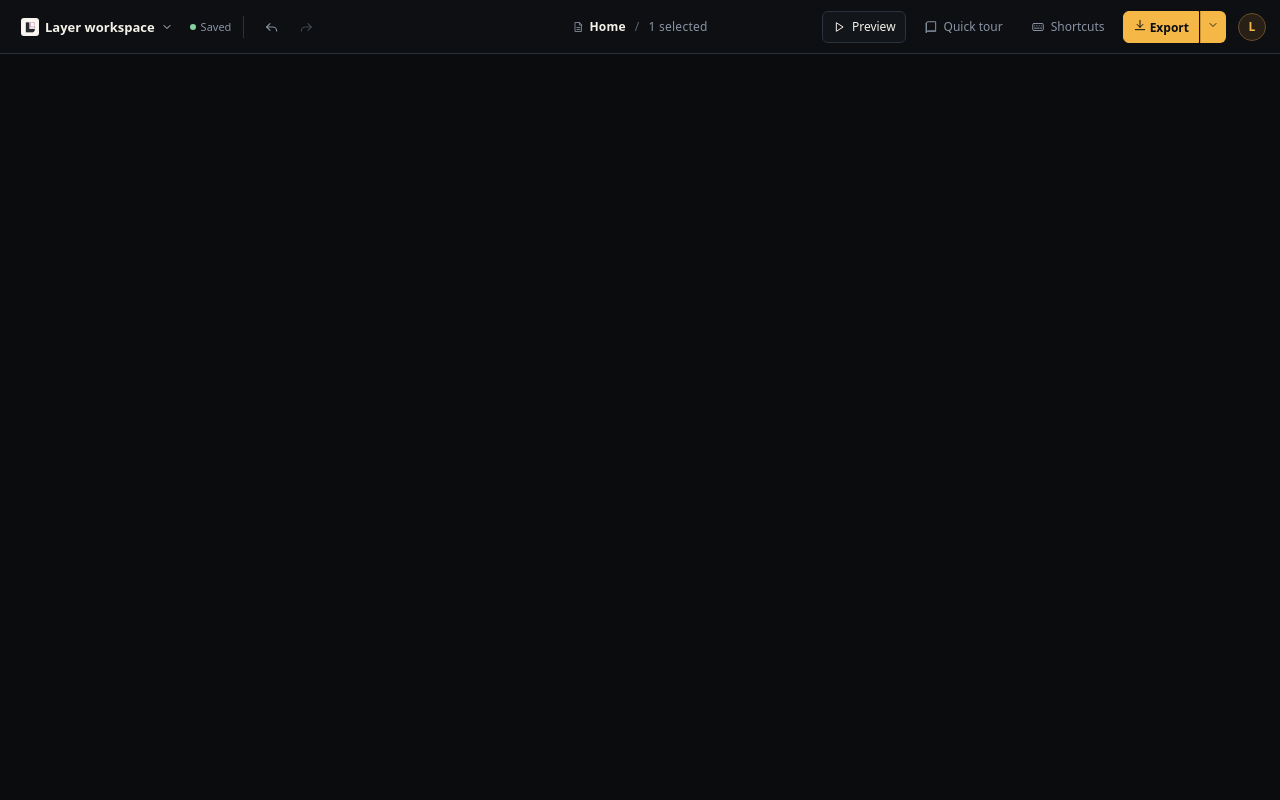
Scenario: toolbar refinements › closes file options after an action and after outside clicks
Click the button named "More export options" at (1213, 26), box [1200,10,1226,42]
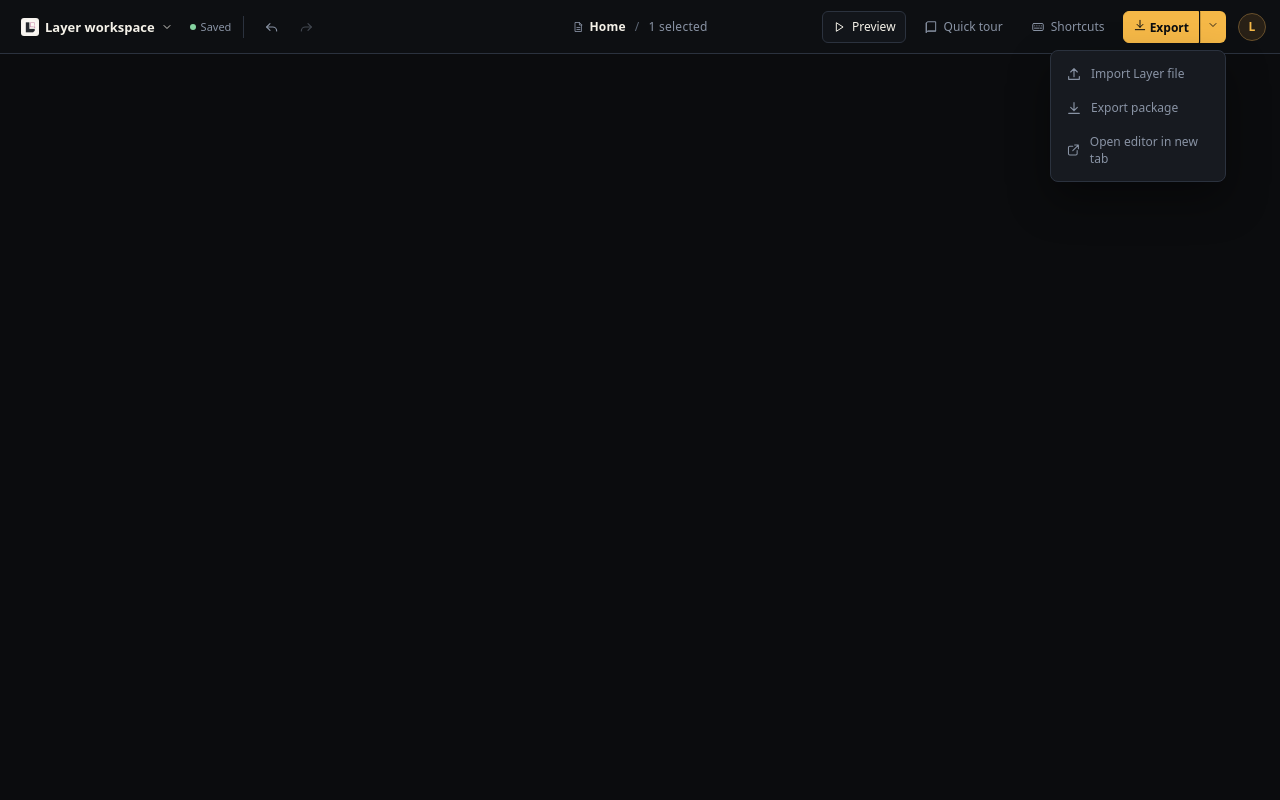
Click the button "Import Layer file" at (1138, 74), box [1057,56,1219,90]
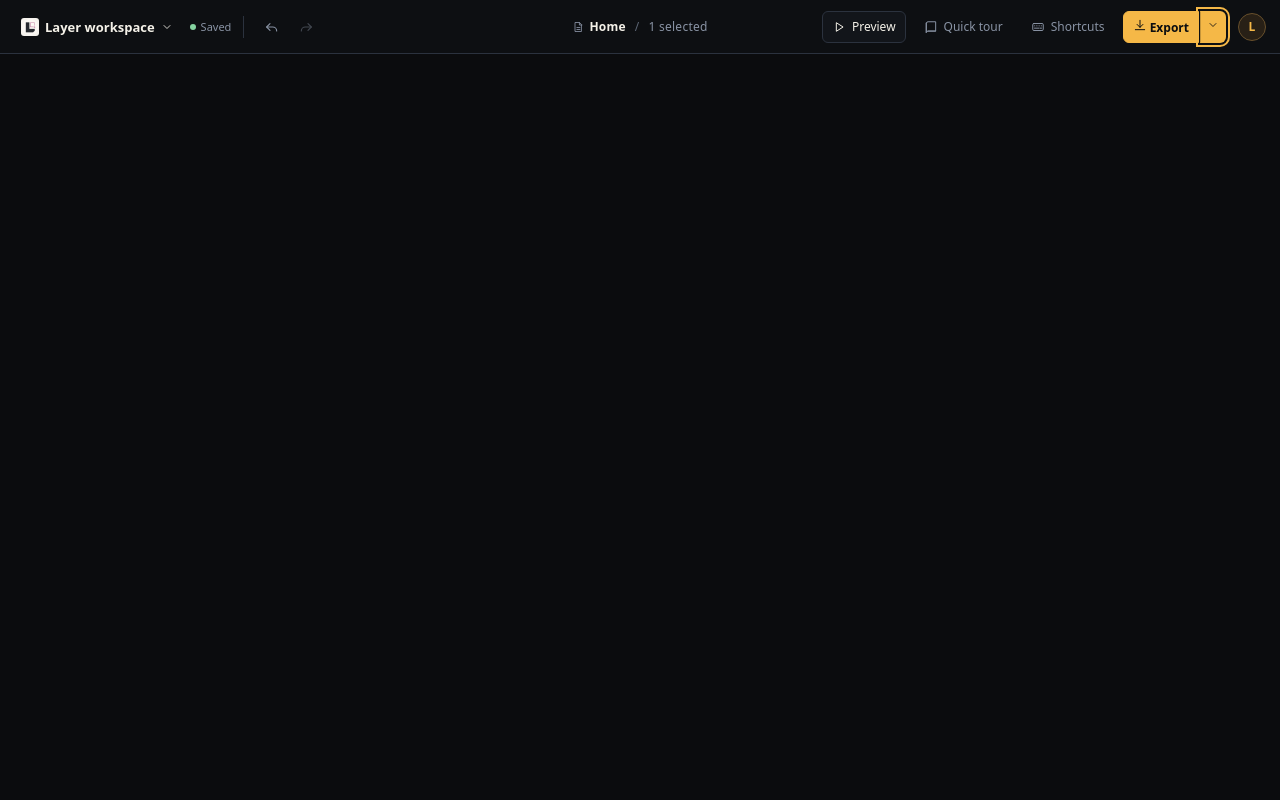
Check: the element with class "export-menu" is gone
Click the button named "More export options" at (1213, 26), box [1200,10,1226,42]
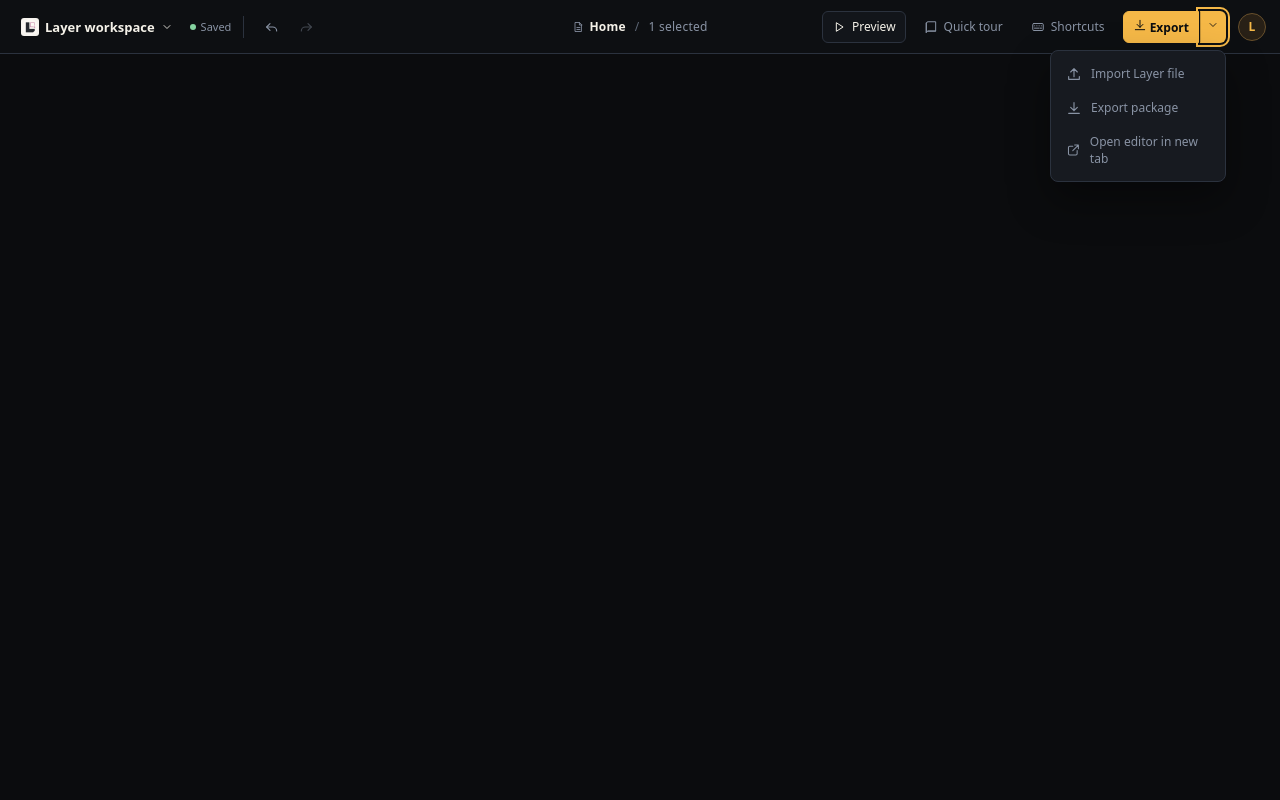
Press the mouse on the element that starts with "Layer workspace" at (640, 400), box [0,0,1279,799]
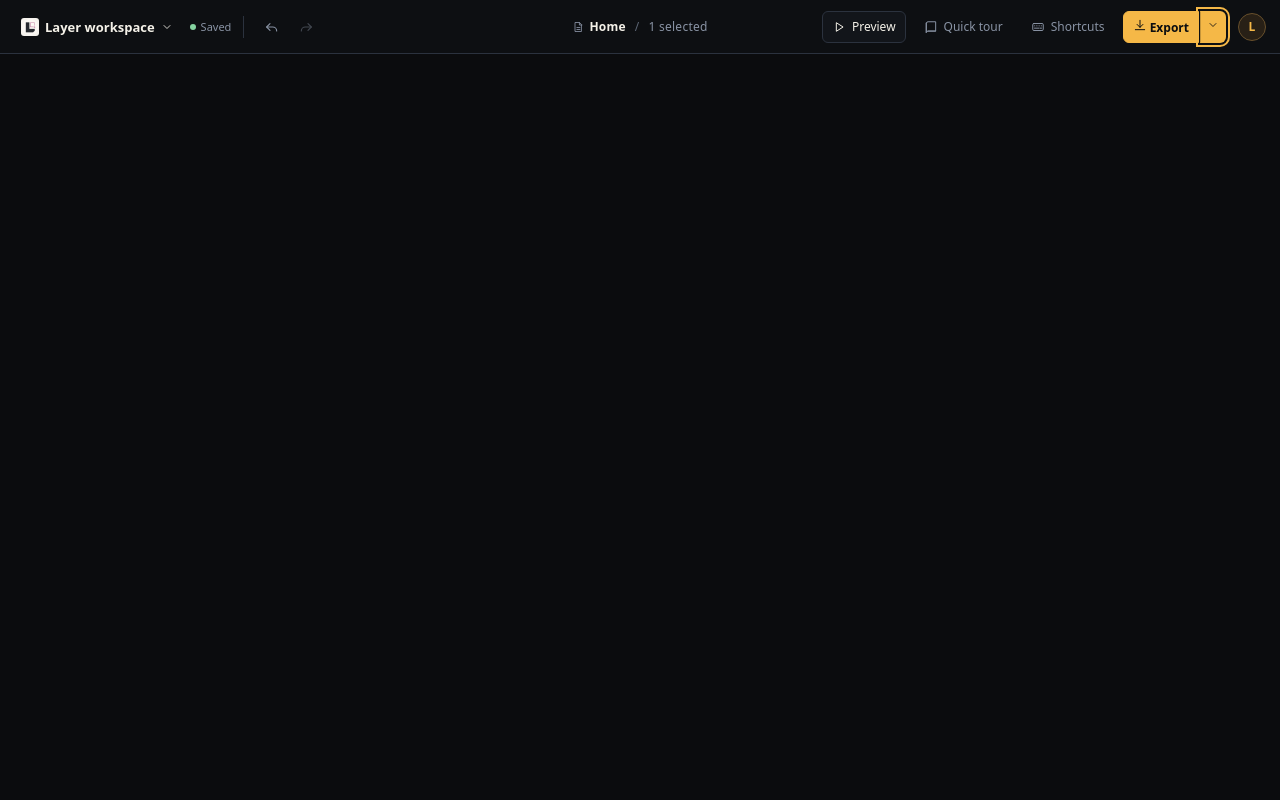
Check: the element with class "export-menu" is gone
